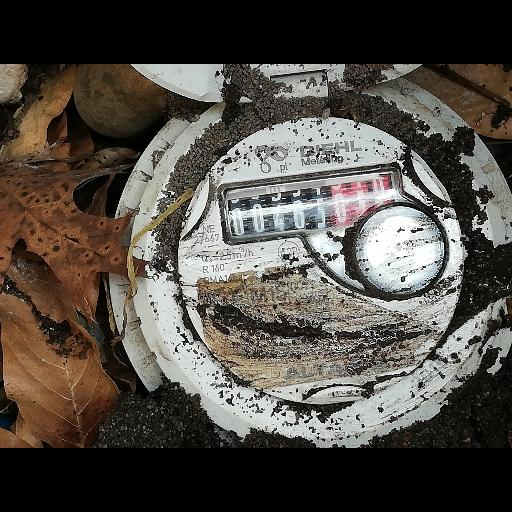0: (327, 183, 353, 228), (246, 195, 272, 237), (227, 198, 252, 239), (369, 173, 394, 212)
4: (267, 192, 293, 234)
5: (308, 185, 335, 231), (349, 180, 373, 223)
6: (288, 189, 313, 234)
border_water_meter_number: (217, 161, 409, 247)
